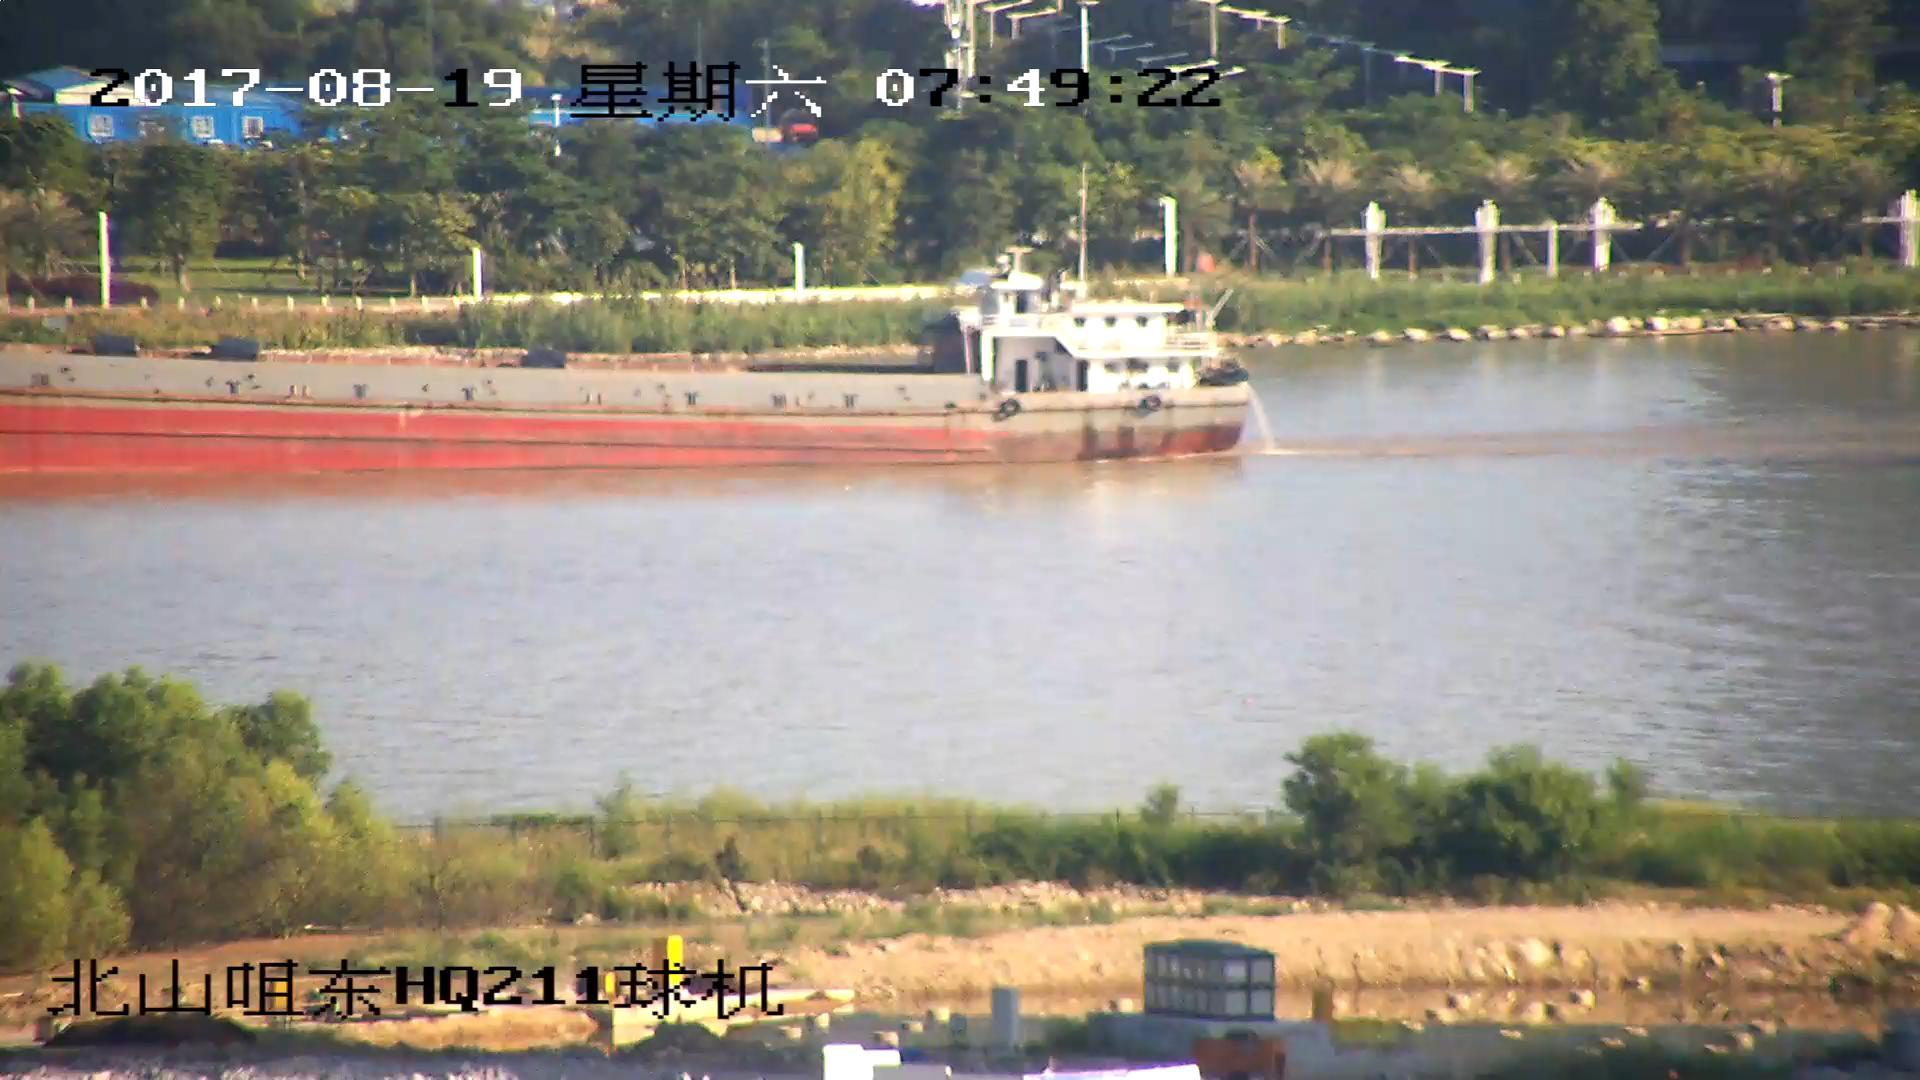Ship: (3, 247, 1254, 480)
